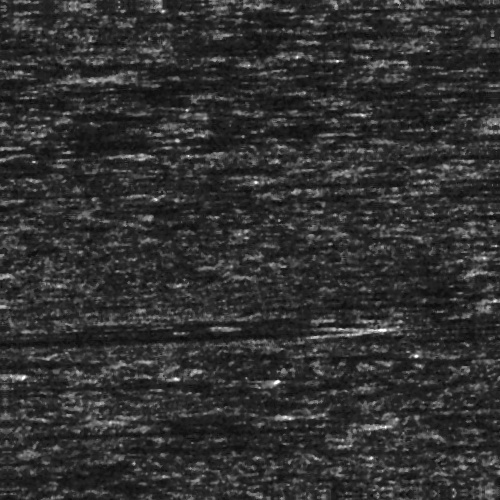object: (300, 419, 457, 436), (14, 64, 159, 77), (268, 325, 435, 336), (234, 375, 307, 386), (235, 413, 328, 420), (466, 300, 500, 311), (461, 272, 500, 281), (0, 350, 30, 359), (0, 363, 25, 372), (0, 134, 31, 139), (483, 96, 500, 103)
shadow: (89, 419, 378, 436), (0, 325, 351, 336), (43, 375, 271, 386), (277, 300, 493, 311), (305, 5, 500, 16), (348, 272, 492, 281), (331, 96, 498, 103), (0, 64, 86, 77), (135, 413, 281, 420), (465, 190, 500, 195)
